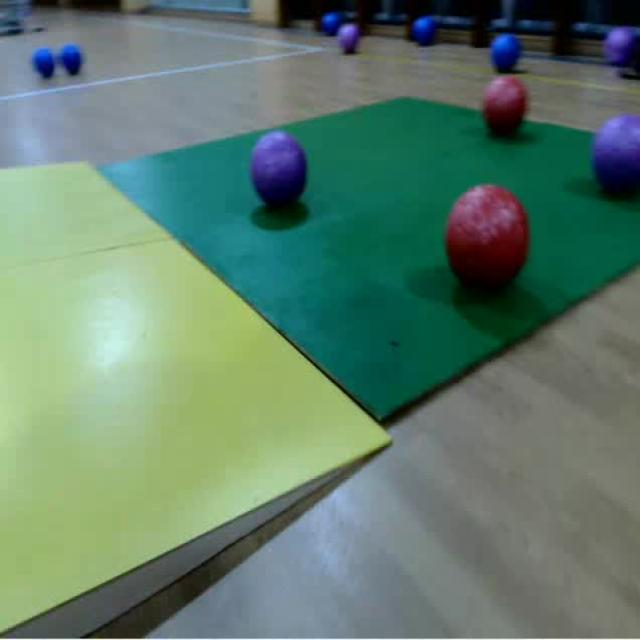blue_ball: (489, 31, 523, 75), (32, 46, 58, 84), (58, 43, 85, 79), (414, 16, 439, 49), (323, 12, 339, 34)
purple_ball: (252, 131, 308, 216), (591, 115, 640, 211), (603, 26, 640, 77), (339, 22, 364, 58)
red_ball: (444, 182, 535, 298), (484, 83, 531, 148)
